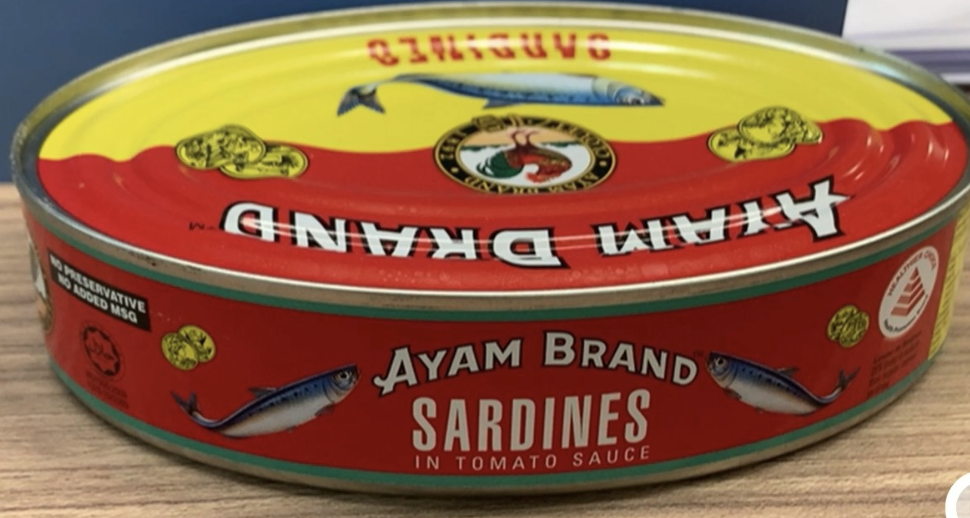sardines_400g-499g: (69, 38, 942, 466)
